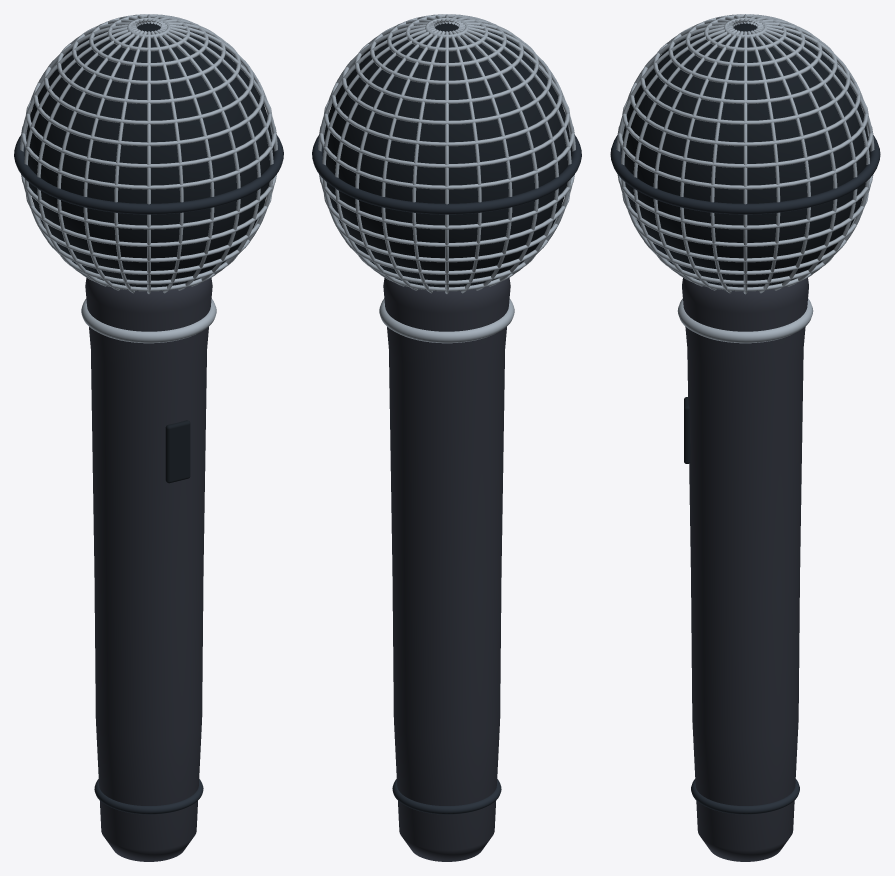
File: atelier_microphone.glb
3 views of the same model, side by side, from view 1: azimuth 30°, elevation 25°; view 2: azimuth 150°, elevation 25°; view 3: azimuth 270°, elevation 25° (orthographic).
Parts seen in each view (by area): view 1: mic:MicV5_SatinBody, mic:Atelier_SoftRubber, mic:Atelier_BrushedSteel, mic:Atelier_AnodizedMetal; view 2: mic:MicV5_SatinBody, mic:Atelier_SoftRubber, mic:Atelier_BrushedSteel, mic:Atelier_AnodizedMetal; view 3: mic:MicV5_SatinBody, mic:Atelier_SoftRubber, mic:Atelier_BrushedSteel, mic:Atelier_AnodizedMetal.
Part boxes in pixels (left/top/right/bottom): mic:MicV5_SatinBody: left=85, top=278, right=212, bottom=861; mic:Atelier_SoftRubber: left=26, top=23, right=272, bottom=483; mic:Atelier_BrushedSteel: left=20, top=14, right=277, bottom=343; mic:Atelier_AnodizedMetal: left=14, top=135, right=283, bottom=814; mic:MicV5_SatinBody: left=383, top=278, right=510, bottom=861; mic:Atelier_SoftRubber: left=323, top=23, right=569, bottom=287; mic:Atelier_BrushedSteel: left=318, top=14, right=575, bottom=343; mic:Atelier_AnodizedMetal: left=312, top=135, right=581, bottom=814; mic:MicV5_SatinBody: left=682, top=278, right=808, bottom=861; mic:Atelier_SoftRubber: left=621, top=22, right=869, bottom=463; mic:Atelier_BrushedSteel: left=616, top=14, right=874, bottom=343; mic:Atelier_AnodizedMetal: left=610, top=135, right=880, bottom=814.
Bounding box in the file's own units: 0.0594 × 0.1993 × 0.0594.
